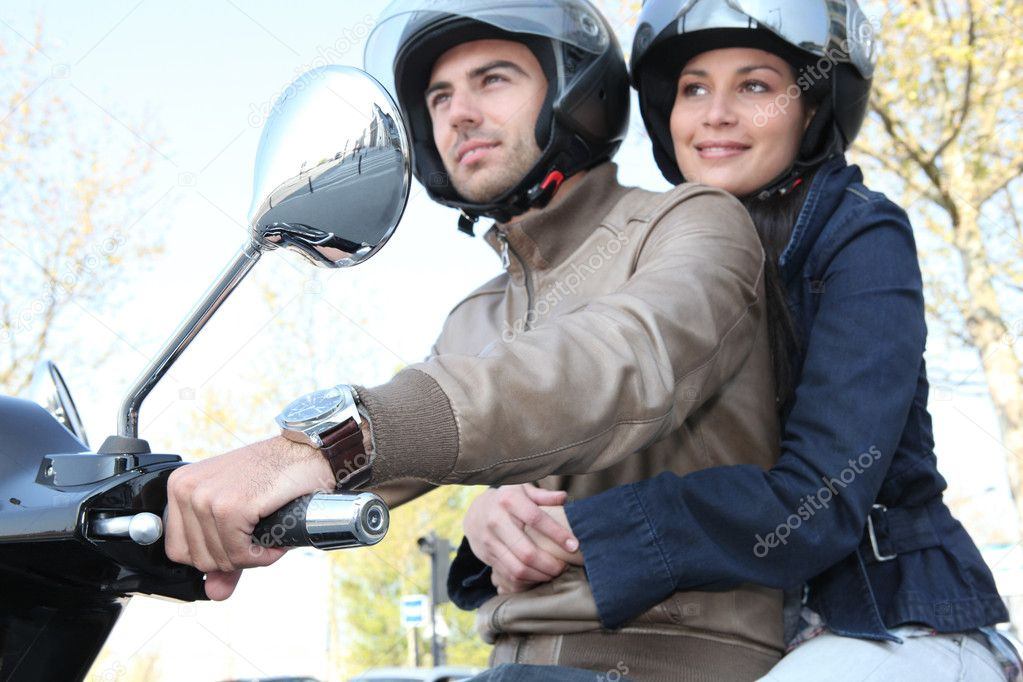helmet: (369, 2, 627, 148), (631, 2, 881, 139)
